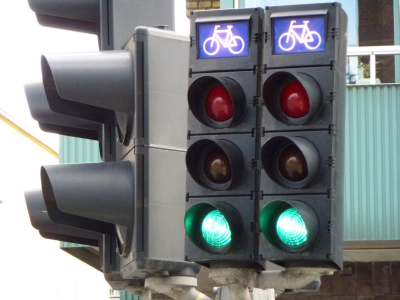trafficlight_green: (258, 71, 320, 250), (184, 76, 243, 251)
